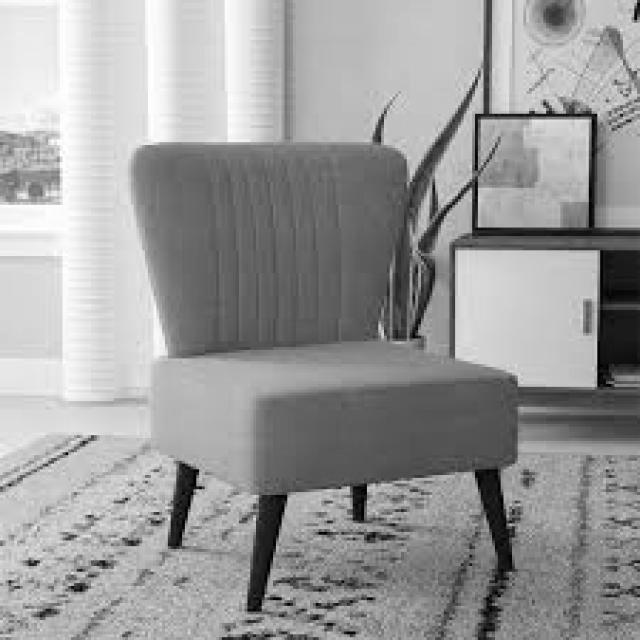chair: (124, 140, 528, 616)
